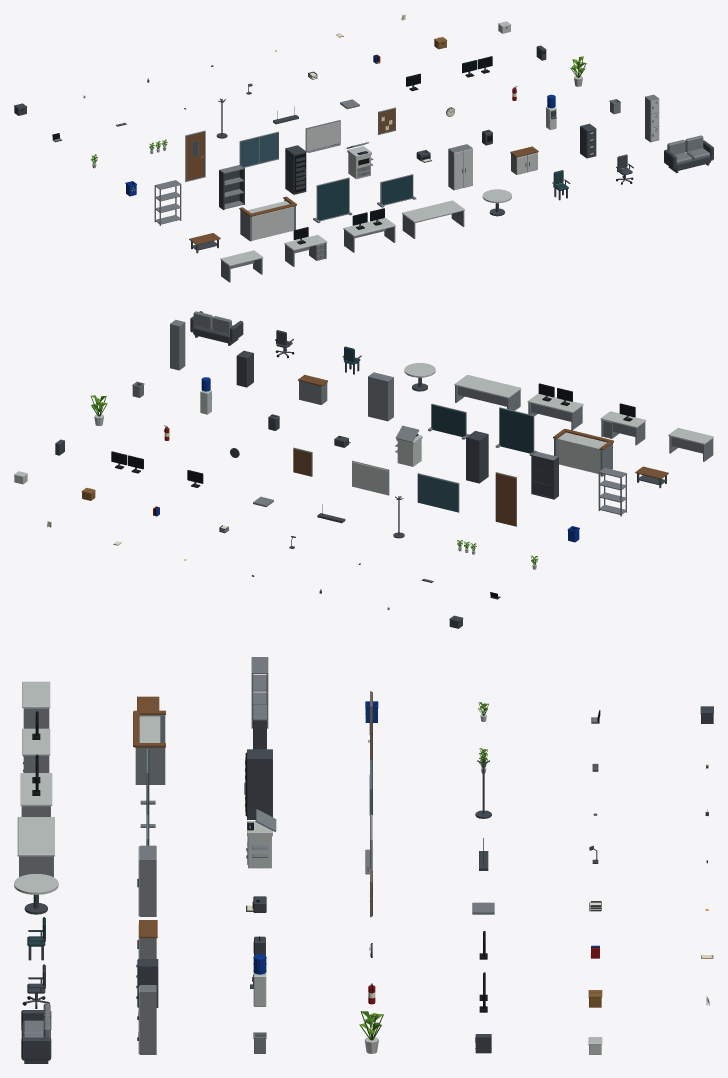
The model's file is OfficeKit_All.fbx.
3 views of the same model, one above another, from view 1: azimuth 30°, elevation 25°; view 2: azimuth 150°, elevation 25°; view 3: azimuth 270°, elevation 25° (orthographic). The views are drawn at different scales.
Parts seen in each view (by area): view 1: ReceptionDesk, TwoSeatSofa, TallPartition, DualMonitorDesk, OfficeWindow, MeetingTable, Bookcase, TallCabinet, ServerRack, DeskWorkstation, OfficeDoor, Whiteboard (+9 smaller); view 2: ReceptionDesk, DualMonitorDesk, MeetingTable, TallPartition, OfficeWindow, TwoSeatSofa, Bookcase, DeskWorkstation, TallCabinet, ServerRack, OfficeDoor, Whiteboard (+9 smaller); view 3: ReceptionDesk, MeetingTable, ServerRack, TwoSeatSofa, DualMonitorDesk, Photocopier, TallCabinet, ThreeDoorLocker, OfficeDesk, DeskWorkstation, RoundTable, MetalShelf (+4 smaller).
Boxes of the visible parts, bbox=[...] form: ReceptionDesk: bbox=[239, 196, 296, 241]; TwoSeatSofa: bbox=[664, 135, 713, 173]; TallPartition: bbox=[313, 177, 352, 222]; DualMonitorDesk: bbox=[343, 208, 395, 252]; OfficeWindow: bbox=[239, 131, 278, 167]; MeetingTable: bbox=[402, 200, 464, 238]; Bookcase: bbox=[219, 165, 244, 209]; TallCabinet: bbox=[448, 144, 472, 190]; ServerRack: bbox=[285, 145, 306, 194]; DeskWorkstation: bbox=[284, 227, 327, 266]; OfficeDoor: bbox=[185, 130, 205, 181]; Whiteboard: bbox=[305, 120, 340, 152]; ReceptionDesk: bbox=[553, 428, 613, 476]; DualMonitorDesk: bbox=[527, 383, 583, 430]; MeetingTable: bbox=[454, 374, 521, 410]; TallPartition: bbox=[495, 407, 537, 455]; OfficeWindow: bbox=[417, 473, 459, 512]; TwoSeatSofa: bbox=[190, 311, 243, 345]; Bookcase: bbox=[531, 451, 558, 499]; DeskWorkstation: bbox=[600, 403, 646, 445]; TallCabinet: bbox=[368, 372, 393, 421]; ServerRack: bbox=[466, 431, 488, 483]; OfficeDoor: bbox=[495, 472, 516, 526]; Whiteboard: bbox=[352, 460, 389, 495]; ReceptionDesk: bbox=[133, 710, 165, 784]; MeetingTable: bbox=[17, 817, 54, 877]; ServerRack: bbox=[244, 749, 272, 819]; TwoSeatSofa: bbox=[21, 1003, 51, 1063]; DualMonitorDesk: bbox=[20, 754, 52, 816]; Photocopier: bbox=[246, 809, 276, 868]; TallCabinet: bbox=[137, 845, 156, 916]; ThreeDoorLocker: bbox=[137, 985, 156, 1054]; OfficeDesk: bbox=[22, 681, 50, 728]; DeskWorkstation: bbox=[22, 711, 50, 772]; RoundTable: bbox=[14, 873, 58, 914]; MetalShelf: bbox=[251, 657, 268, 728].
Size of the model in its own units: 2277 by 209 by 1878.
1 material, 1 textured.
